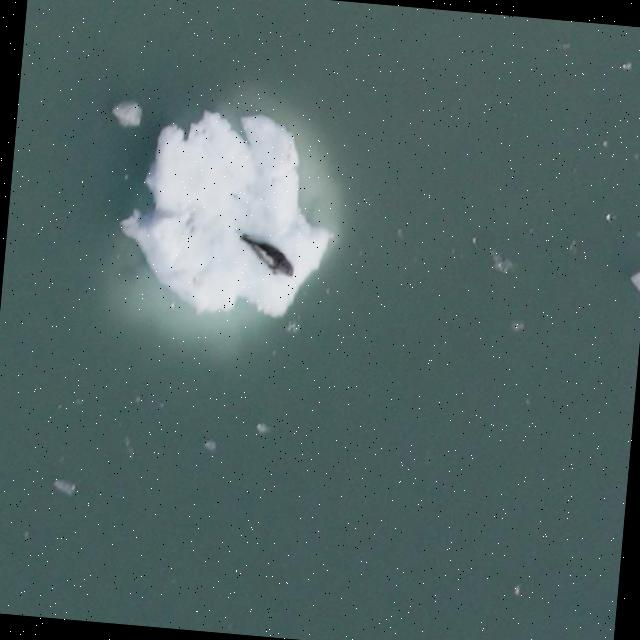seal: (238, 223, 299, 284)
